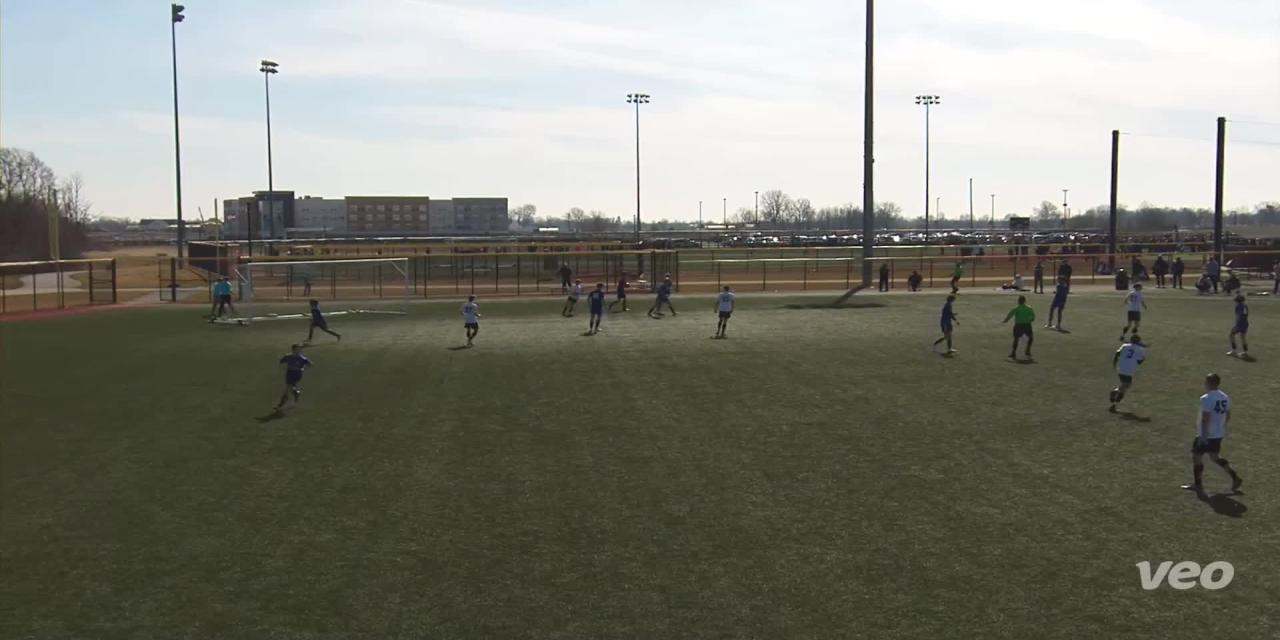goal: (214, 252, 416, 328)
